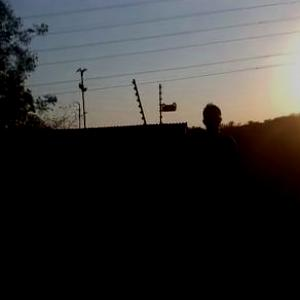follow: (184, 98, 242, 278)
